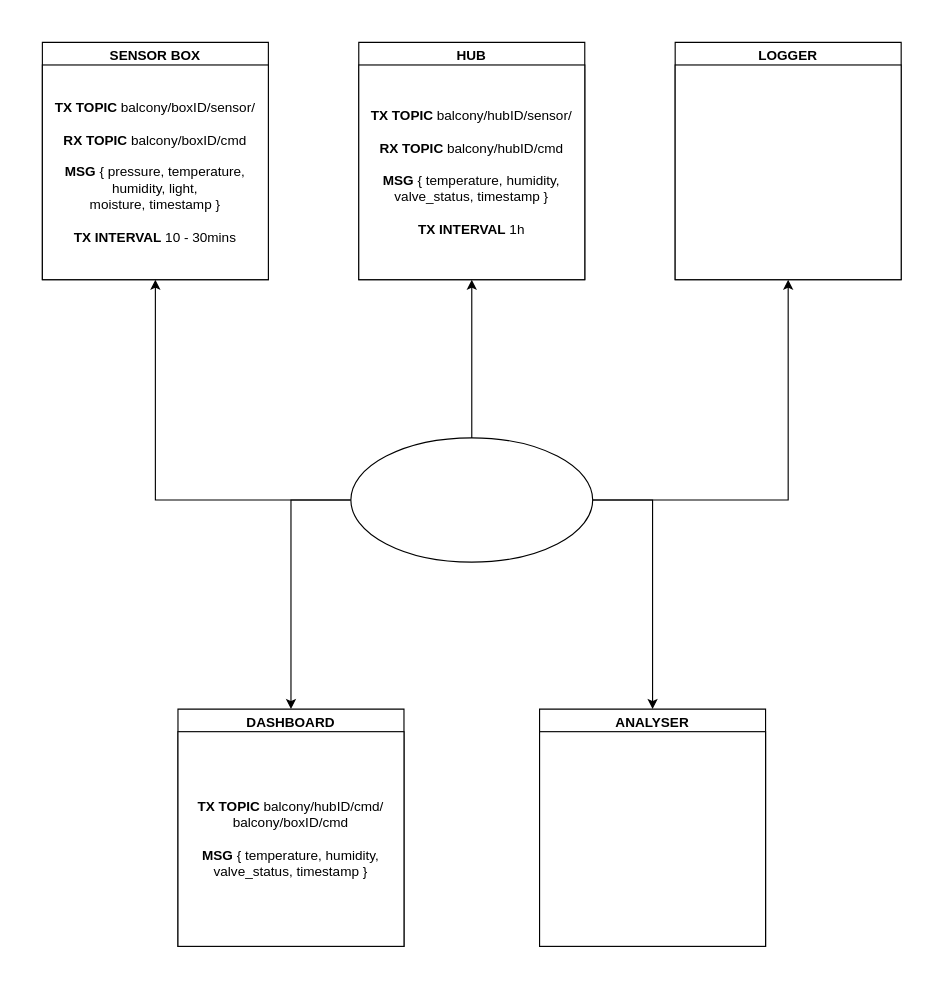
This 942x988 diagram has some shape labels left out. Here are the shapes that lost their labels. From the top down, the centre of each, then its label:
At pixel 787 172: "RX TOPIC balcony/#".
At pixel 471 499: "Broker".
At pixel 652 838: "TX TOPIC balcony/hubID/cmd/".
